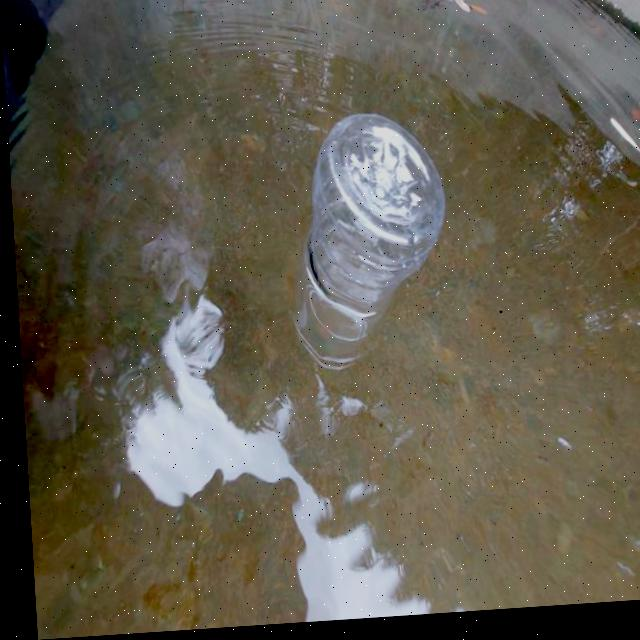waterbottle: (258, 106, 453, 410)
